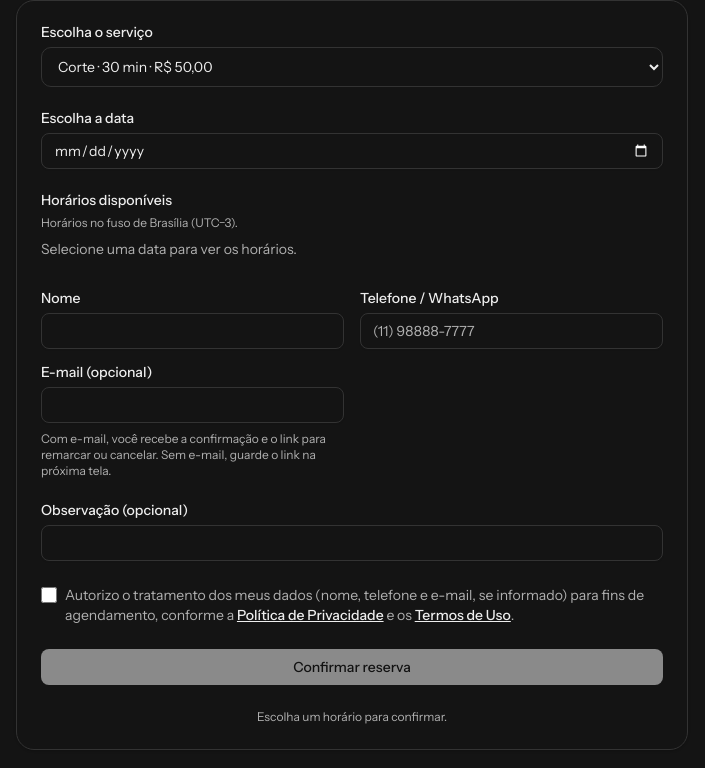
BookingWidget › shows the selected slot as a pt-BR date
The width and height of the screenshot is (705, 768).
Type "2026-10-20" into the date field labelled "Escolha a data".
click(352, 151); type("2026-10-20")  # box left=41, top=133, right=663, bottom=169
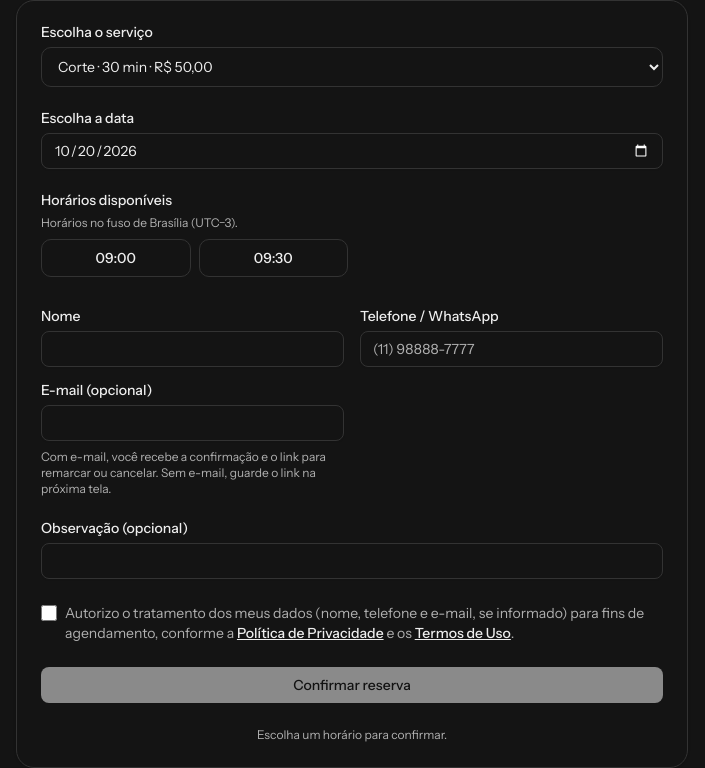
Click the button "09:00".
click(116, 258)  # box left=41, top=239, right=190, bottom=277
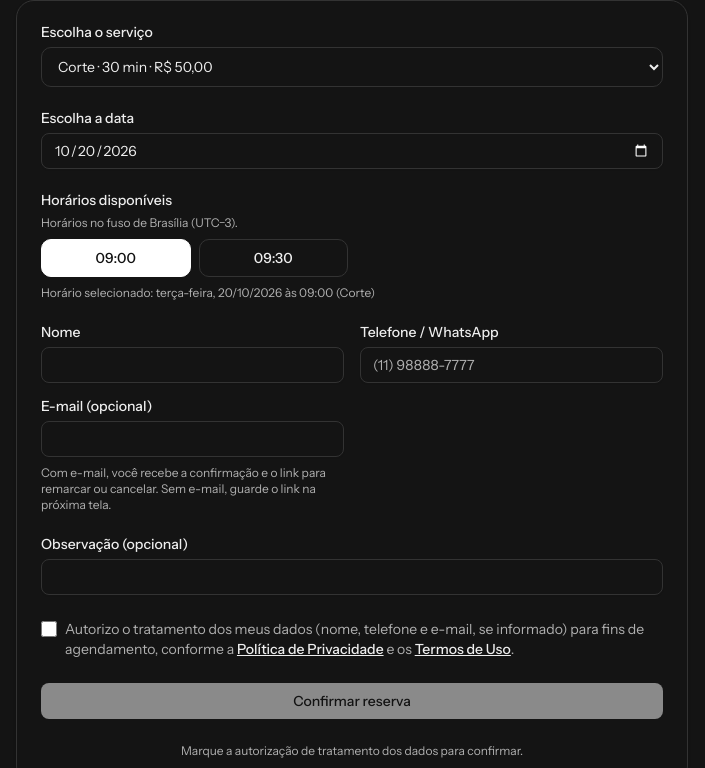
Now the text "Horário selecionado: terça-feira, 20/10/2026 às 09:00 (Corte)" is shown, box left=41, top=285, right=375, bottom=300
